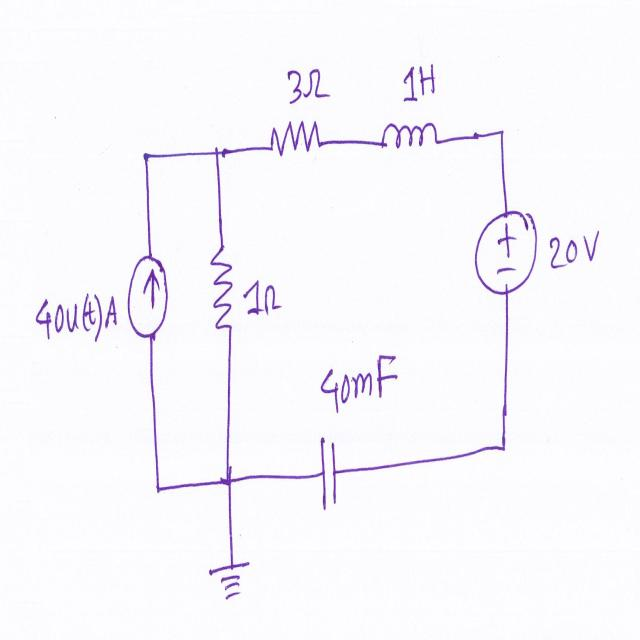capacitor: (319, 427, 340, 513)
current_source: (124, 253, 171, 351)
ground: (200, 550, 257, 602)
inductor: (378, 115, 442, 157)
resistor: (208, 244, 240, 334), (268, 122, 324, 166)
voltage_source: (473, 199, 537, 302)
